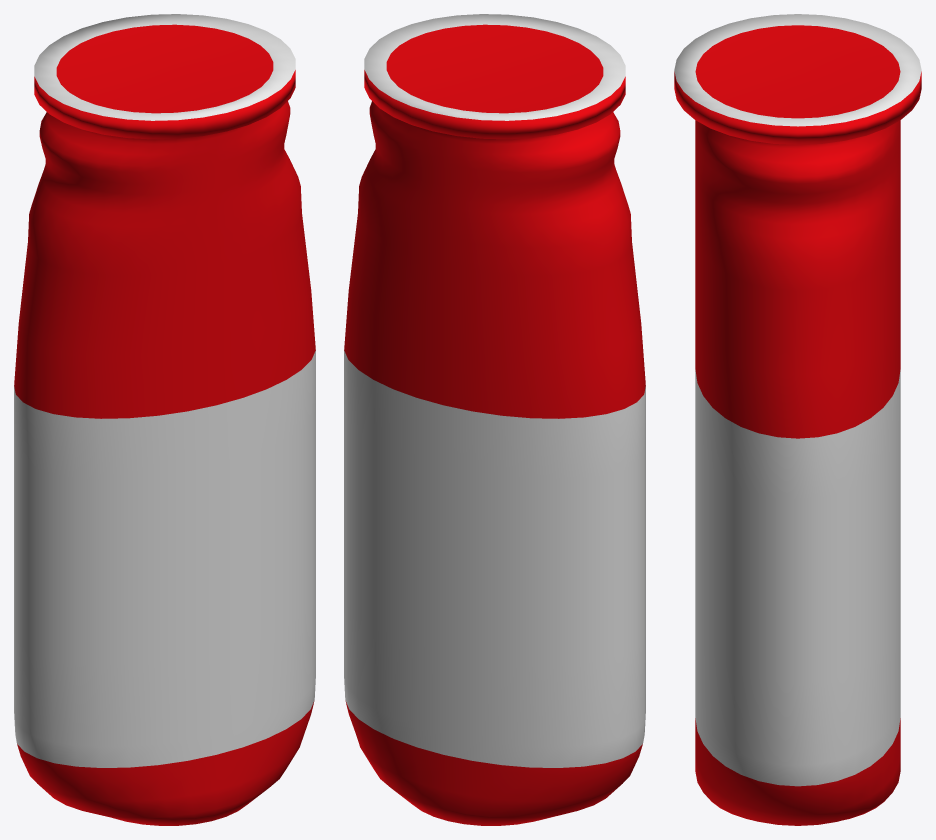
Rendered from domates sosu.fbx.
3 renders of one model, left to right at view 1: azimuth 30°, elevation 25°; view 2: azimuth 150°, elevation 25°; view 3: azimuth 270°, elevation 25°, orthographic.
Parts seen in each view (by area): view 1: Cylinder.003; view 2: Cylinder.003; view 3: Cylinder.003.
Part boxes in pixels (x1,y1,x2,y2): Cylinder.003: [14, 14, 315, 825]; Cylinder.003: [344, 14, 645, 825]; Cylinder.003: [674, 14, 921, 825].
Size of the model in its own units: 338 by 829 by 256.
